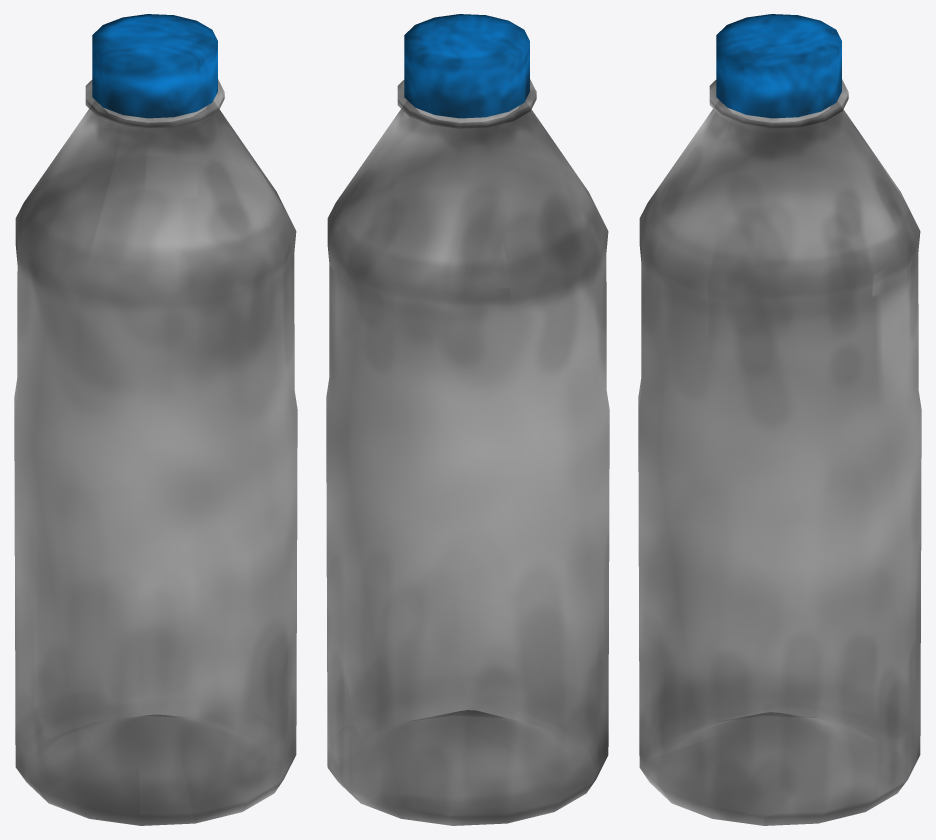
The model's file is waterbottle2.glb.
3 views of the same model, side by side, from view 1: azimuth 30°, elevation 25°; view 2: azimuth 150°, elevation 25°; view 3: azimuth 270°, elevation 25° (orthographic).
Visible parts, largest first — view 1: WaterBottle; view 2: WaterBottle; view 3: WaterBottle.
Boxes of the visible parts, x1,y1,x2,y2 form: WaterBottle: [14, 14, 297, 825]; WaterBottle: [326, 14, 609, 825]; WaterBottle: [638, 14, 921, 825].
Size of the model in its own units: 2.01 by 5.7 by 2.
1 material, 1 textured.
